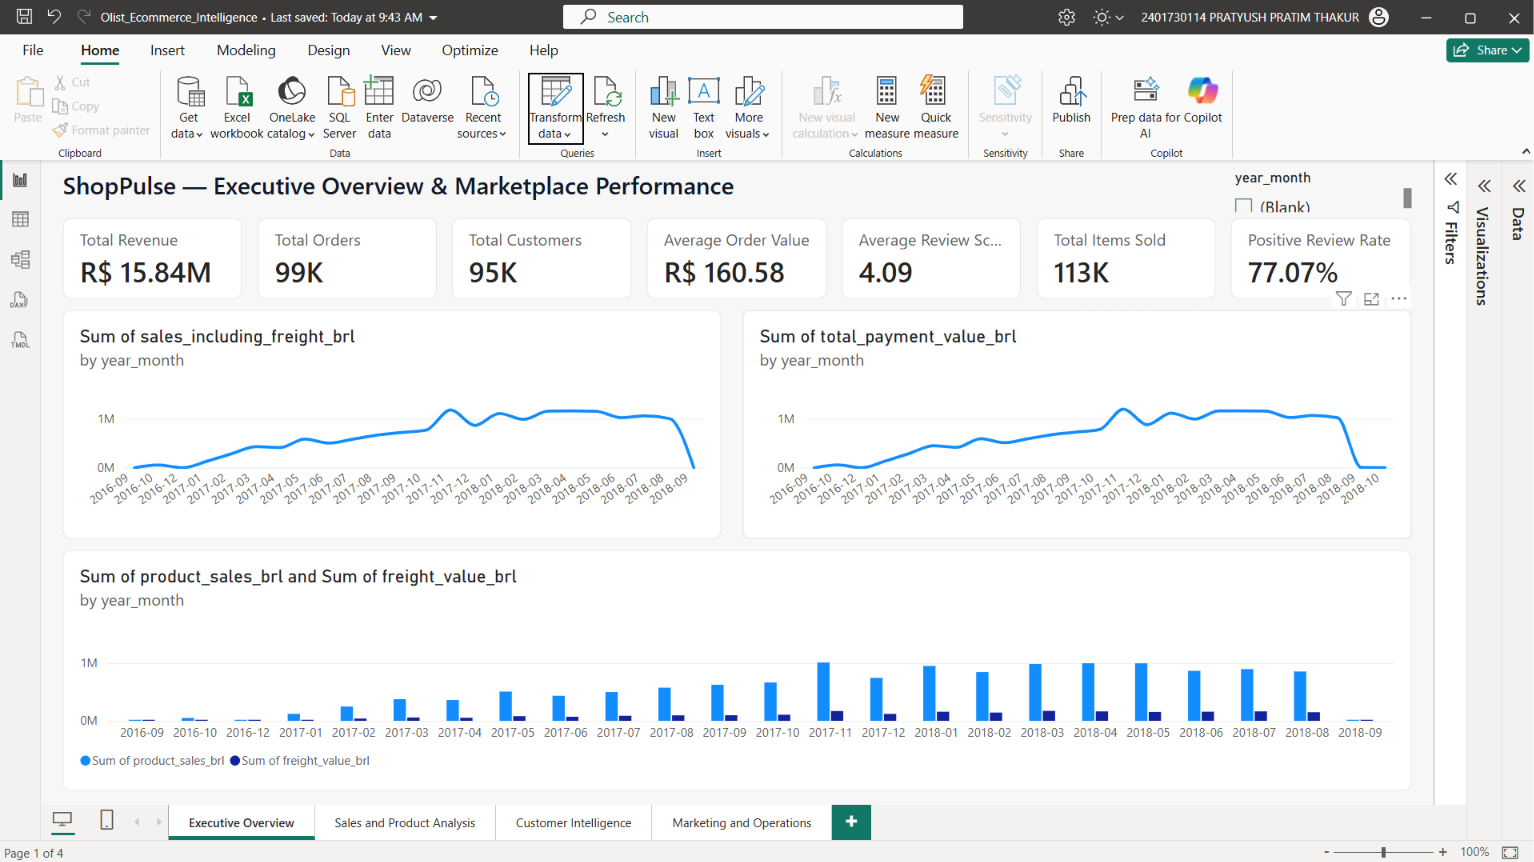

Layout of this report page (visuals, bound fields, positions):
{"tool":"powerbi","page":{"name":"Executive Overview","canvas":[1280,720],"ordinal":0},"visuals":[{"type":"textbox","box":[20,10,1055,45],"z":0},{"type":"slicer","fields":{"Values":["kpi_monthly_sales.year_month"]},"box":[1090,10,170,48],"z":0},{"type":"cardVisual","fields":{"Data":["kpi_executive_summary.Total Revenue"]},"box":[20,65,165,90],"z":0},{"type":"cardVisual","fields":{"Data":["kpi_executive_summary.Total Orders"]},"box":[199,65,165,90],"z":0},{"type":"cardVisual","fields":{"Data":["kpi_executive_summary.Total Customers"]},"box":[378,65,165,90],"z":0},{"type":"cardVisual","fields":{"Data":["kpi_executive_summary.Average Order Value"]},"box":[557,65,165,90],"z":0},{"type":"cardVisual","fields":{"Data":["kpi_executive_summary.Average Review Score"]},"box":[736,65,165,90],"z":0},{"type":"cardVisual","fields":{"Data":["kpi_executive_summary.Total Items Sold"]},"box":[915,65,165,90],"z":0},{"type":"cardVisual","fields":{"Data":["kpi_executive_summary.Positive Review Rate"]},"box":[1094,65,165,90],"z":0},{"type":"lineChart","fields":{"Category":["kpi_monthly_sales.year_month"],"Y":["Sum(kpi_monthly_sales.sales_including_freight_brl)"]},"box":[20,168,605,255],"z":0},{"type":"lineChart","fields":{"Category":["kpi_monthly_payments.year_month"],"Y":["Sum(kpi_monthly_payments.total_payment_value_brl)"]},"box":[645,168,615,255],"z":0},{"type":"clusteredColumnChart","fields":{"Category":["kpi_monthly_sales.year_month"],"Y":["Sum(kpi_monthly_sales.product_sales_brl)","Sum(kpi_monthly_sales.freight_value_brl)"]},"box":[20,435,1240,270],"z":0}]}

Visuals, with their boxes on the page's 1280x720 design canvas (x1, y1, x2, y2). These are canvas units, not pixel positions in the 1534x862 screenshot, which may show the page scaled, cropped or inside an application window:
textbox: 20,10,1075,55
slicer - kpi_monthly_sales.year_month: 1090,10,1260,58
cardVisual - kpi_executive_summary.Total Revenue: 20,65,185,155
cardVisual - kpi_executive_summary.Total Orders: 199,65,364,155
cardVisual - kpi_executive_summary.Total Customers: 378,65,543,155
cardVisual - kpi_executive_summary.Average Order Value: 557,65,722,155
cardVisual - kpi_executive_summary.Average Review Score: 736,65,901,155
cardVisual - kpi_executive_summary.Total Items Sold: 915,65,1080,155
cardVisual - kpi_executive_summary.Positive Review Rate: 1094,65,1259,155
lineChart - kpi_monthly_sales.year_month x Sum(kpi_monthly_sales.sales_including_freight_brl): 20,168,625,423
lineChart - kpi_monthly_payments.year_month x Sum(kpi_monthly_payments.total_payment_value_brl): 645,168,1260,423
clusteredColumnChart - kpi_monthly_sales.year_month x Sum(kpi_monthly_sales.product_sales_brl): 20,435,1260,705
